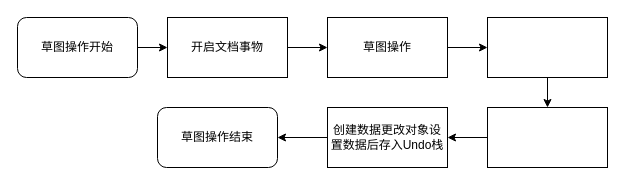
Image size: 625x185. Some labels were removed from this diagram. The centre of each missing label's shape, as x and y in pixels:
"提交文档事物" goes at point 547,137.
"更改草图数据" goes at point 547,47.
